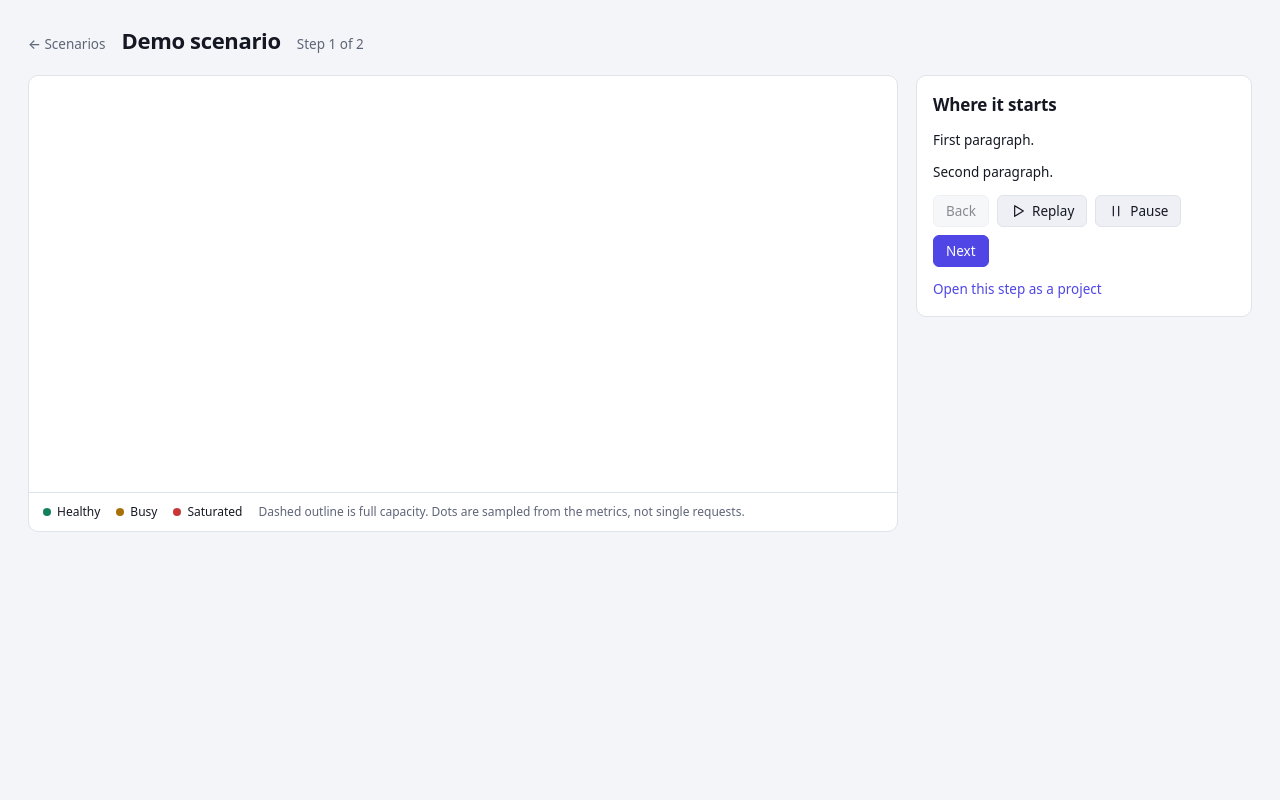
it: ScenarioPlayer › moves to the next step, stopping the running one first, and lists what changed
Expected: the heading "Where it starts" is shown, [933,93,1057,116]
Click the button "Next" at (961, 251), box [933,235,989,267]
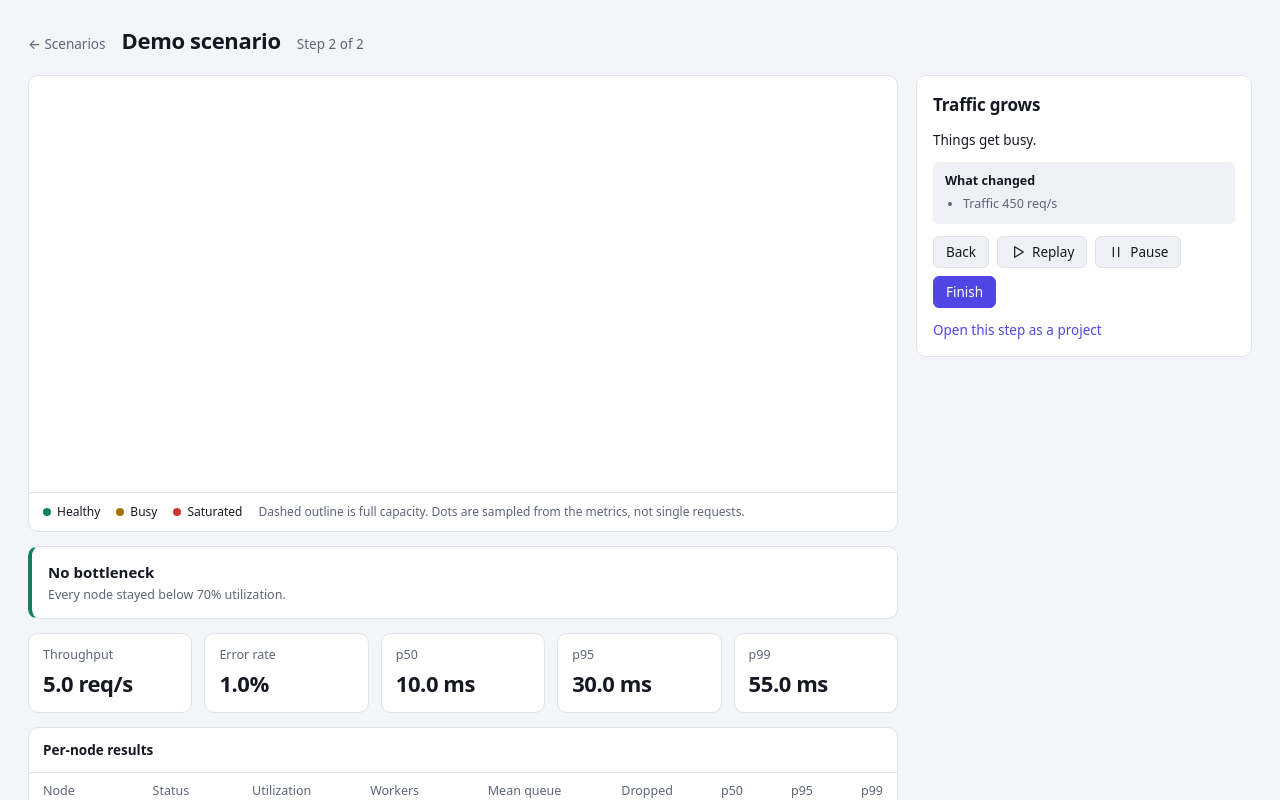
Result: the heading "Traffic grows" is shown at [933,93,1040,116]
Result: the list item "Traffic 450 req/s" is shown at [963,195,1057,212]
Result: the button "Finish" is shown at [933,276,996,308]
